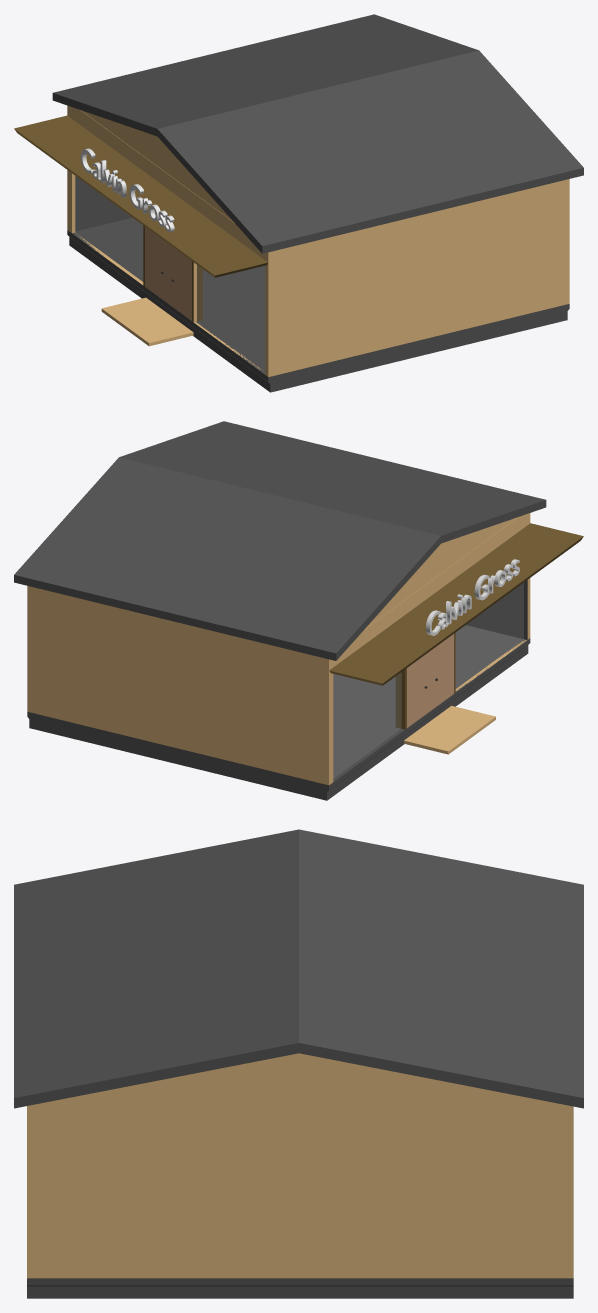
File: Markt.gltf
3 renders of one model, top to bottom at view 1: azimuth 30°, elevation 25°; view 2: azimuth 150°, elevation 25°; view 3: azimuth 270°, elevation 25°, orthographic. The views are drawn at different scales.
Parts seen in each view (by area): view 1: Markt, Markt Text; view 2: Markt, Markt Text; view 3: Markt.
Boxes of the visible parts, x1,y1,x2,y2 form: Markt: (14,14,583,392); Markt Text: (80,148,174,232); Markt: (14,421,583,800); Markt Text: (426,559,519,635); Markt: (14,829,583,1298).
Bounding box in the file's own units: 36.9 × 18.75 × 36.78.
